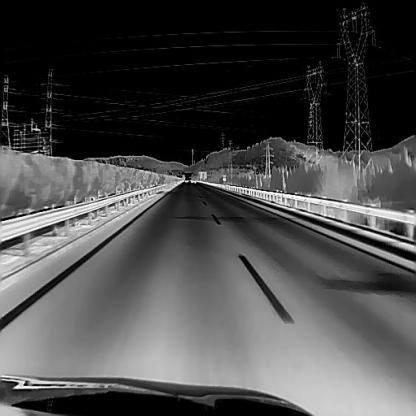car: (191, 171, 197, 182)
